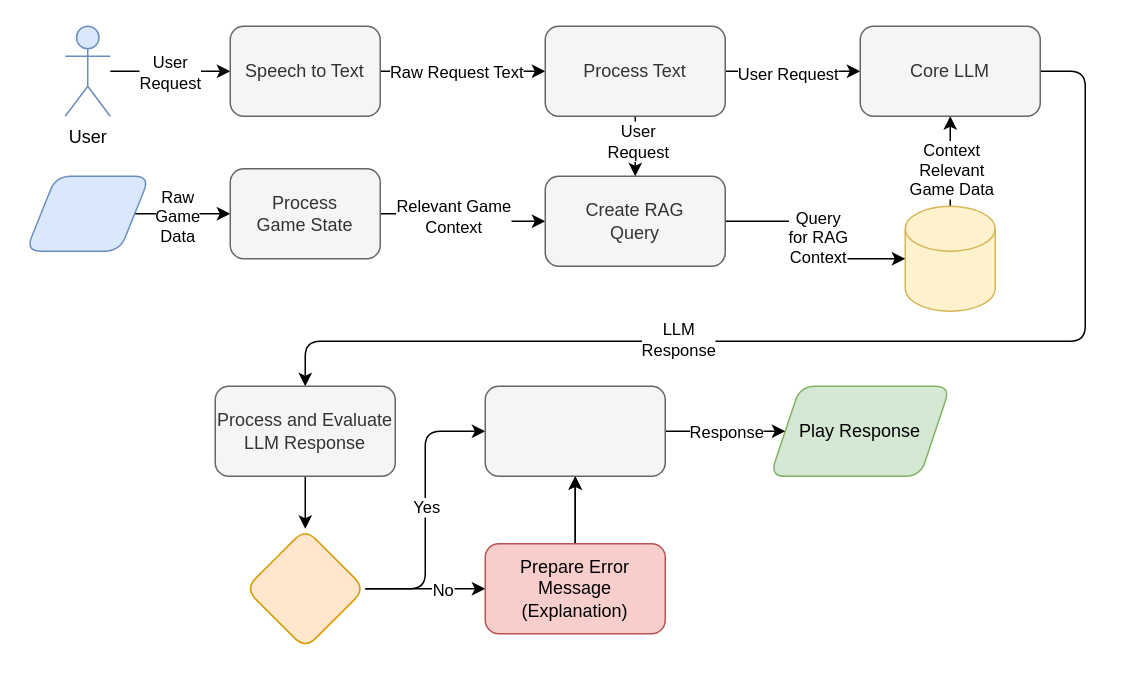
Image size: 1125x675. Some labels were removed from this diagram. Each missing label, with the centre of its shape:
"Game State" belongs at (x=87, y=213).
"RAG DB" belongs at (x=949, y=258).
"Response OK?" belongs at (x=304, y=588).
"Text to Speech" belongs at (x=574, y=430).
